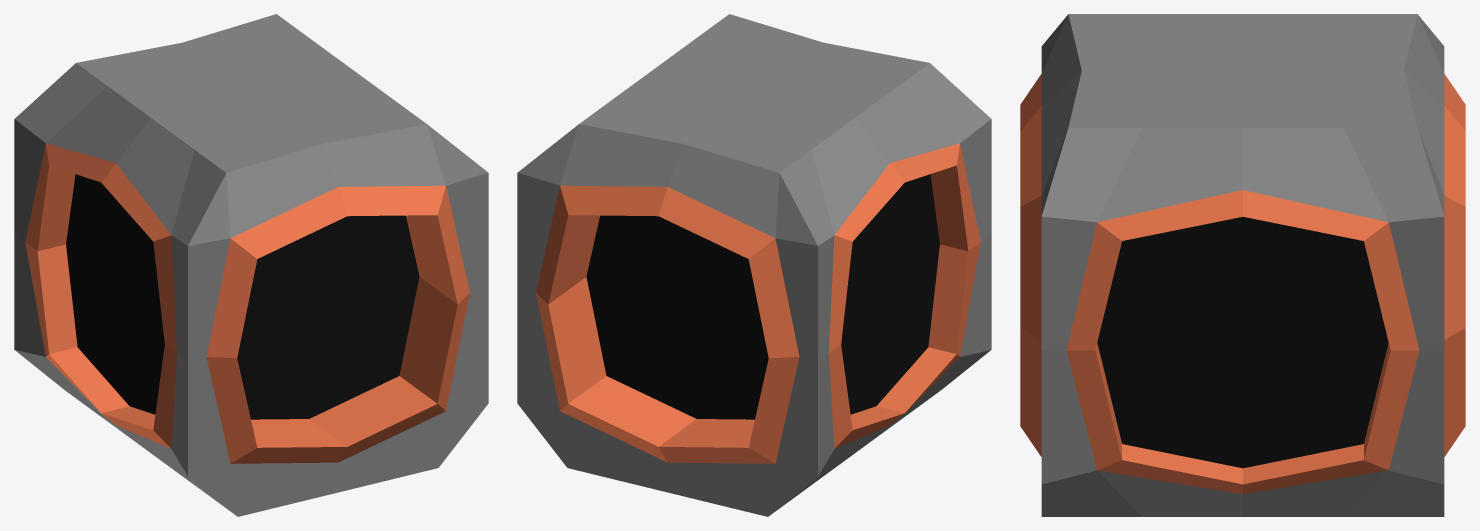
The model's file is MergerLOD.fbx.
The picture shows the model from 3 angles, left to right: view 1: azimuth 30°, elevation 25°; view 2: azimuth 150°, elevation 25°; view 3: azimuth 270°, elevation 25°; orthographic projection. The views are drawn at different scales.
Parts seen in each view (by area): view 1: Merger_LOD0; view 2: Merger_LOD0; view 3: Merger_LOD0.
Boxes of the visible parts, bbox=[...] form: Merger_LOD0: bbox=[14, 14, 488, 516]; Merger_LOD0: bbox=[517, 14, 991, 516]; Merger_LOD0: bbox=[1020, 14, 1465, 516].
Size of what is drawn, in the model's own units: 300 by 320 by 332.
